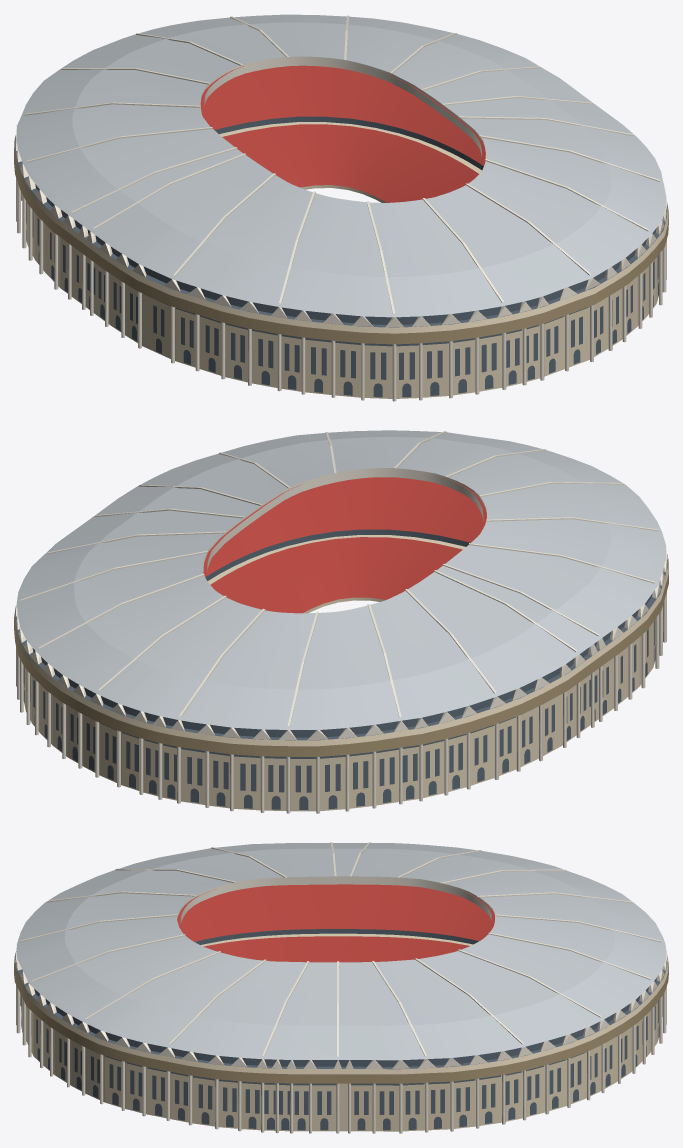
The model's file is moscow-luzhniki.glb.
3 renders of one model, top to bottom at view 1: azimuth 30°, elevation 25°; view 2: azimuth 150°, elevation 25°; view 3: azimuth 270°, elevation 25°, orthographic. The views are drawn at different scales.
Parts seen in each view (by area): view 1: Luzhniki Stadium; view 2: Luzhniki Stadium; view 3: Luzhniki Stadium.
Part boxes in pixels (left/top/right/bottom): Luzhniki Stadium: left=14, top=14, right=668, bottom=401; Luzhniki Stadium: left=14, top=430, right=668, bottom=813; Luzhniki Stadium: left=14, top=842, right=668, bottom=1133.
Bounding box in the file's own units: 250 × 56.9 × 316.
